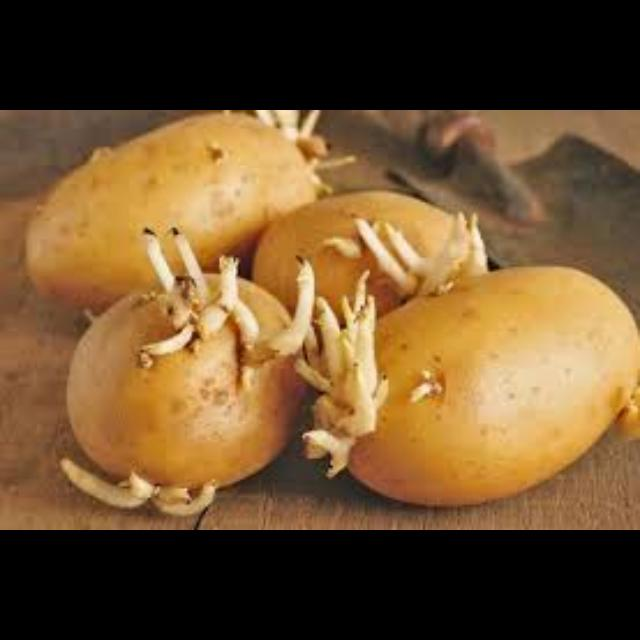Sprouted potato: (292, 250, 640, 512), (56, 225, 324, 520), (14, 111, 368, 322), (259, 180, 511, 346)
